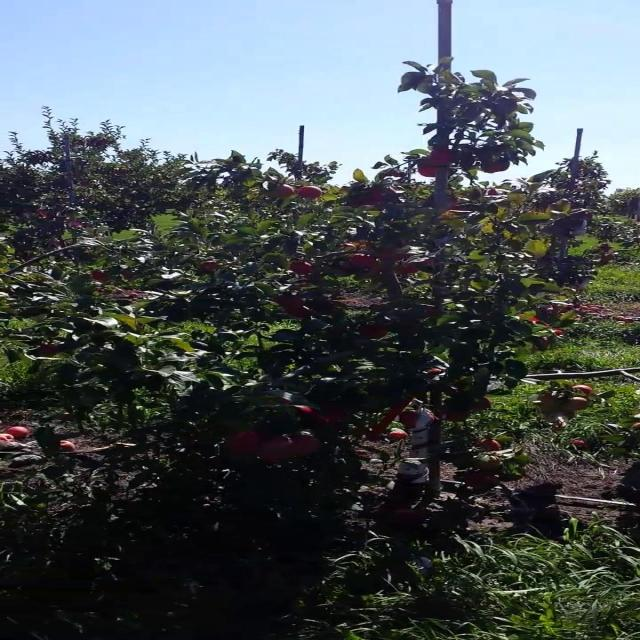apple: (222, 431, 262, 456), (291, 432, 320, 456), (462, 470, 498, 489), (260, 435, 293, 453), (260, 444, 291, 462), (273, 294, 304, 311), (322, 404, 351, 422), (480, 158, 511, 174), (367, 186, 398, 201), (473, 456, 502, 472), (480, 158, 509, 174), (360, 324, 389, 339), (398, 410, 420, 429), (429, 149, 453, 166), (258, 448, 287, 462), (264, 184, 293, 198), (349, 254, 376, 269), (376, 248, 407, 261), (400, 410, 420, 429), (282, 305, 311, 318), (564, 396, 589, 411), (340, 240, 373, 251), (271, 184, 296, 198), (298, 185, 322, 199), (289, 261, 313, 275), (320, 300, 342, 315), (444, 410, 471, 422), (478, 438, 502, 451), (36, 344, 62, 356), (469, 398, 491, 411), (198, 260, 220, 272), (396, 262, 418, 274), (538, 392, 560, 404), (380, 169, 407, 178), (571, 384, 593, 395), (424, 305, 442, 318), (419, 165, 436, 178), (538, 399, 560, 409), (91, 270, 109, 282), (411, 258, 438, 266), (293, 406, 313, 414), (120, 269, 136, 279), (369, 259, 382, 271), (427, 368, 444, 375)
